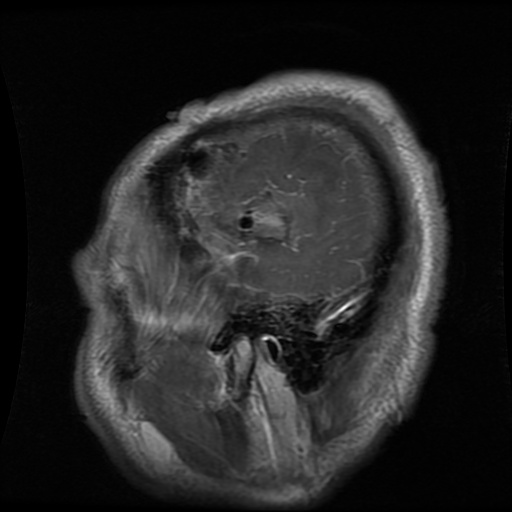glioma: (237, 203, 290, 241)
